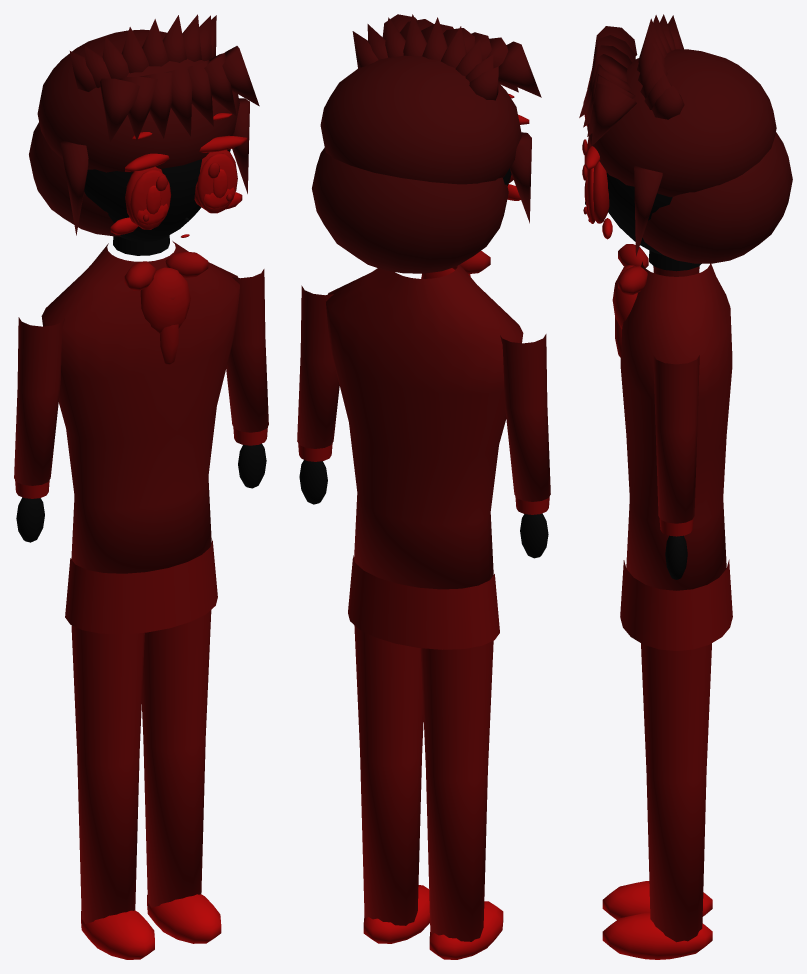
The model's file is boy_kaito.glb.
The picture shows the model from 3 angles, left to right: view 1: azimuth 30°, elevation 25°; view 2: azimuth 150°, elevation 25°; view 3: azimuth 270°, elevation 25°; orthographic projection.
Visible parts, largest first — view 1: body, legl, legr, arml, armr; view 2: body, legl, legr, arml, armr; view 3: body, legr, armr, legl.
Part boxes in pixels (<box>): body: <box>29,14,259,634</box>; legl: <box>71,625,154,959</box>; legr: <box>141,610,221,943</box>; arml: <box>14,317,64,542</box>; armr: <box>226,269,268,488</box>; body: <box>312,14,541,649</box>; legl: <box>420,640,503,959</box>; legr: <box>354,625,429,943</box>; arml: <box>500,334,550,558</box>; armr: <box>297,285,339,504</box>; body: <box>579,14,792,650</box>; legr: <box>602,643,712,959</box>; armr: <box>653,355,699,579</box>; legl: <box>602,881,712,919</box>.
Size of the model in its own units: 0.756 by 2.68 by 0.5688.
